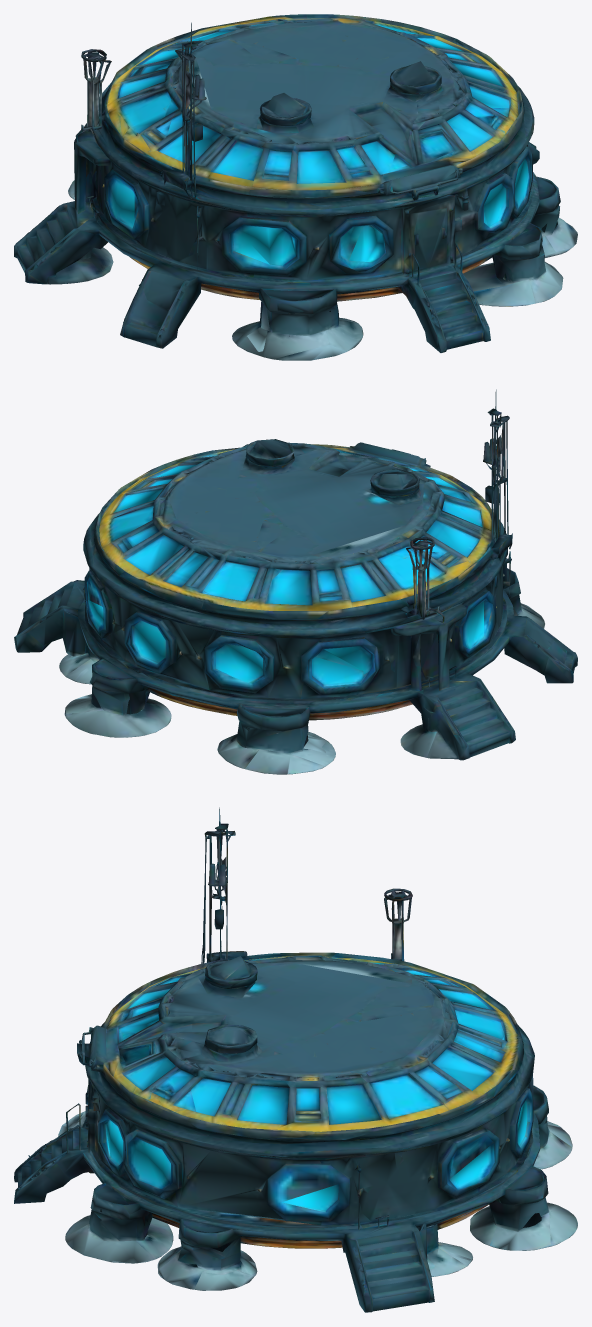
Rendered from hero-arctic-outpost-lod1.glb.
The picture shows the model from 3 angles, top to bottom: view 1: azimuth 30°, elevation 25°; view 2: azimuth 150°, elevation 25°; view 3: azimuth 270°, elevation 25°; orthographic projection. The views are drawn at different scales.
Visible parts, largest first — view 1: node_0; view 2: node_0; view 3: node_0.
Part boxes in pixels (x1,y1,x2,y2): node_0: [14, 14, 577, 360]; node_0: [14, 389, 577, 774]; node_0: [14, 807, 577, 1312].
Size of the model in its own units: 1.03 by 0.5677 by 0.9623.
1 material, 1 textured.
